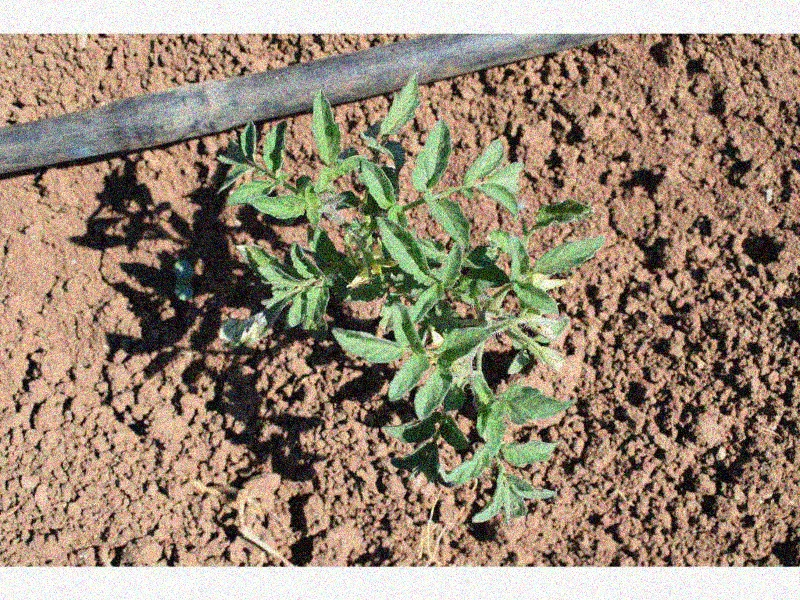tomato: (216, 68, 605, 523)
